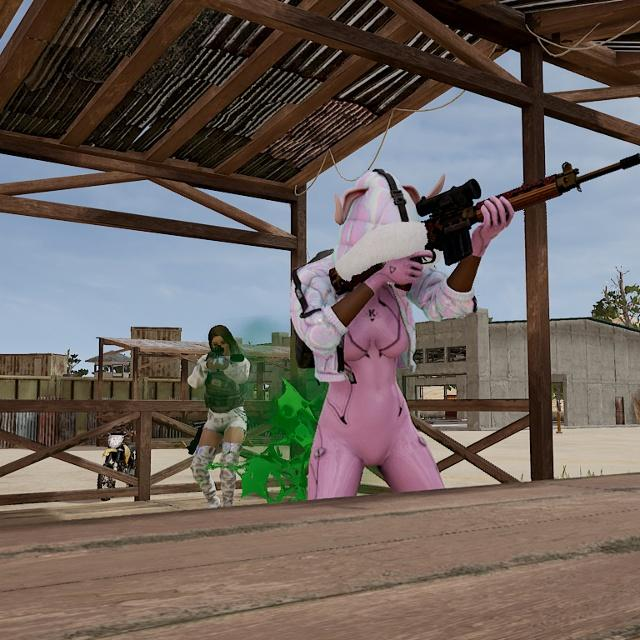head: (341, 170, 426, 281), (203, 322, 244, 363)
people: (288, 163, 474, 496), (177, 318, 264, 514)
